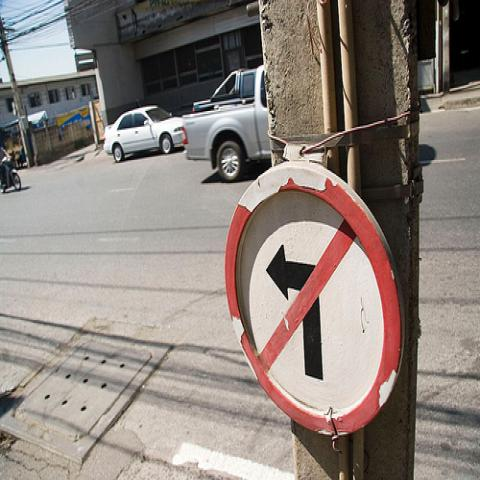car: (102, 106, 184, 163)
motorcycle: (0, 156, 22, 194)
truck: (181, 59, 272, 179)
